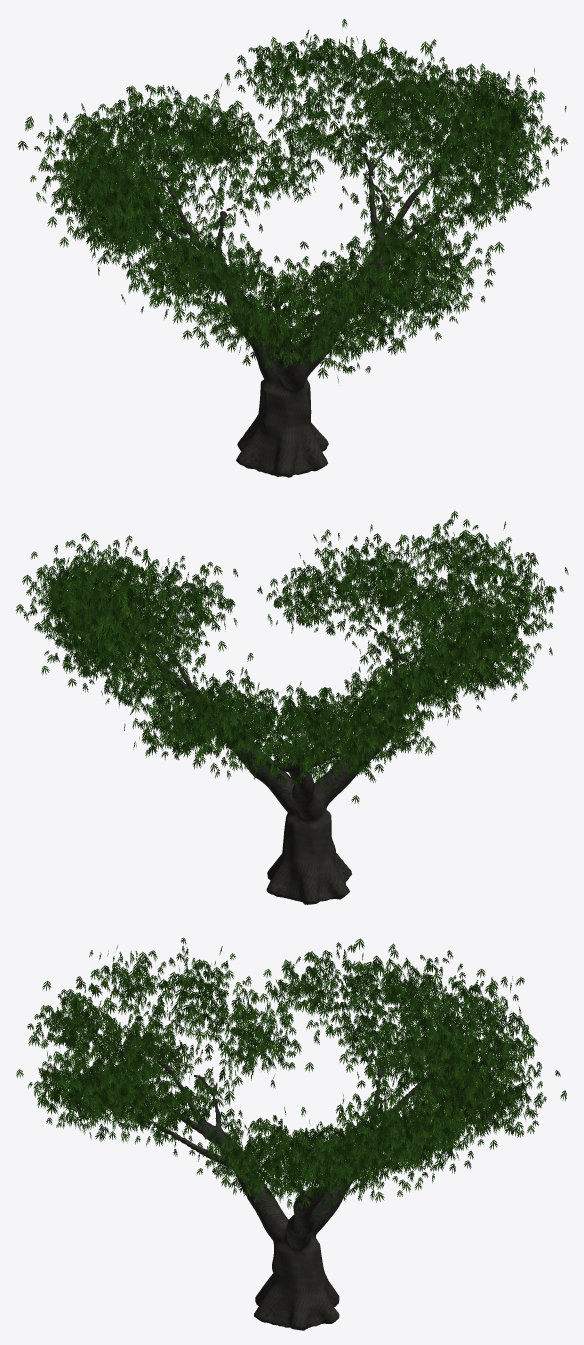
File: MangoTree2.glb
3 views of the same model, one above another, from view 1: azimuth 30°, elevation 25°; view 2: azimuth 150°, elevation 25°; view 3: azimuth 270°, elevation 25° (orthographic). The views are drawn at different scales.
Visible parts, largest first — view 1: MangoTree_D_Leaves, MangoTree_D_Bark; view 2: MangoTree_D_Leaves, MangoTree_D_Bark; view 3: MangoTree_D_Leaves, MangoTree_D_Bark.
Boxes of the visible parts, box(x1,y1,x2,y2) form: MangoTree_D_Leaves: box(17, 19, 567, 383); MangoTree_D_Bark: box(114, 75, 469, 477); MangoTree_D_Leaves: box(15, 511, 568, 803); MangoTree_D_Bark: box(123, 568, 480, 904); MangoTree_D_Leaves: box(16, 937, 566, 1236); MangoTree_D_Bark: box(108, 1002, 467, 1330).
Size of the model in its own units: 17.4 by 12.41 by 18.73.
Materials: 2 (2 with a texture image).
